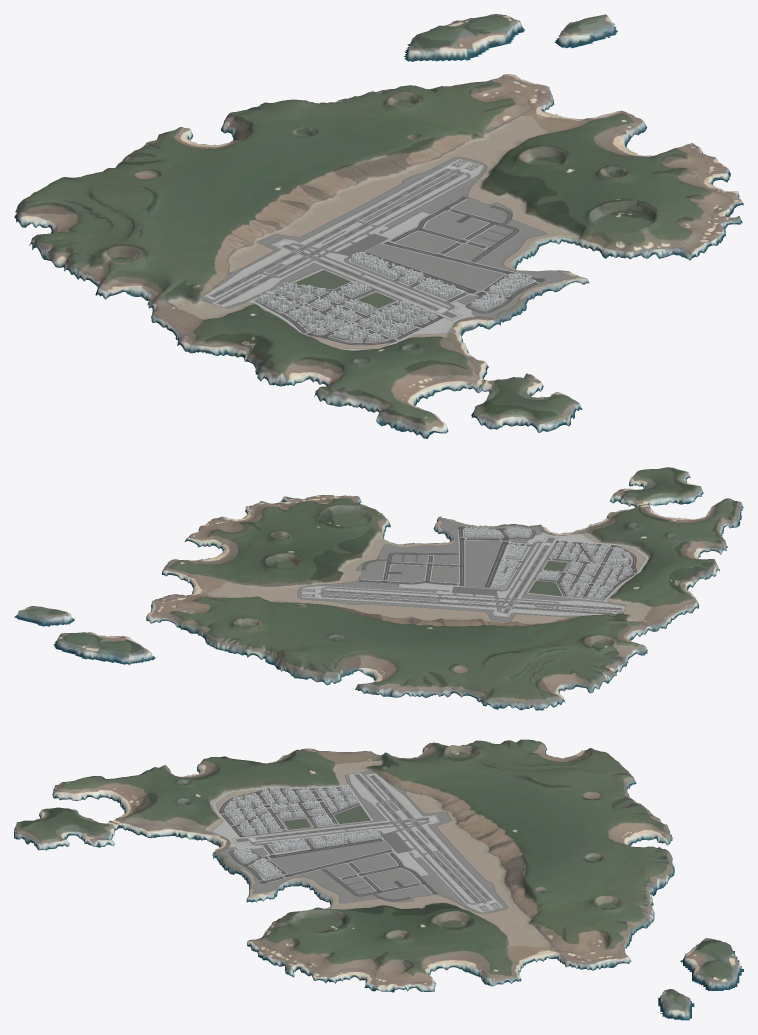
Rendered from southataria.glb.
The picture shows the model from 3 angles, top to bottom: view 1: azimuth 30°, elevation 25°; view 2: azimuth 150°, elevation 25°; view 3: azimuth 270°, elevation 25°; orthographic projection. The views are drawn at different scales.
Visible parts, largest first — view 1: SouthAtaria, Piso Ciudad, Edificios; view 2: SouthAtaria, Piso Ciudad, Edificios; view 3: SouthAtaria, Piso Ciudad, Edificios.
Boxes of the visible parts, <box> form: SouthAtaria: <box>14,14,743,438</box>; Piso Ciudad: <box>201,157,576,350</box>; Edificios: <box>258,252,531,342</box>; SouthAtaria: <box>14,467,743,710</box>; Piso Ciudad: <box>297,518,648,622</box>; Edificios: <box>464,526,630,599</box>; SouthAtaria: <box>14,739,743,1020</box>; Piso Ciudad: <box>210,771,507,913</box>; Edificios: <box>226,785,380,879</box>.
Size of the model in its own units: 52.64 by 1.52 by 59.85.
4 materials, 3 textured.
